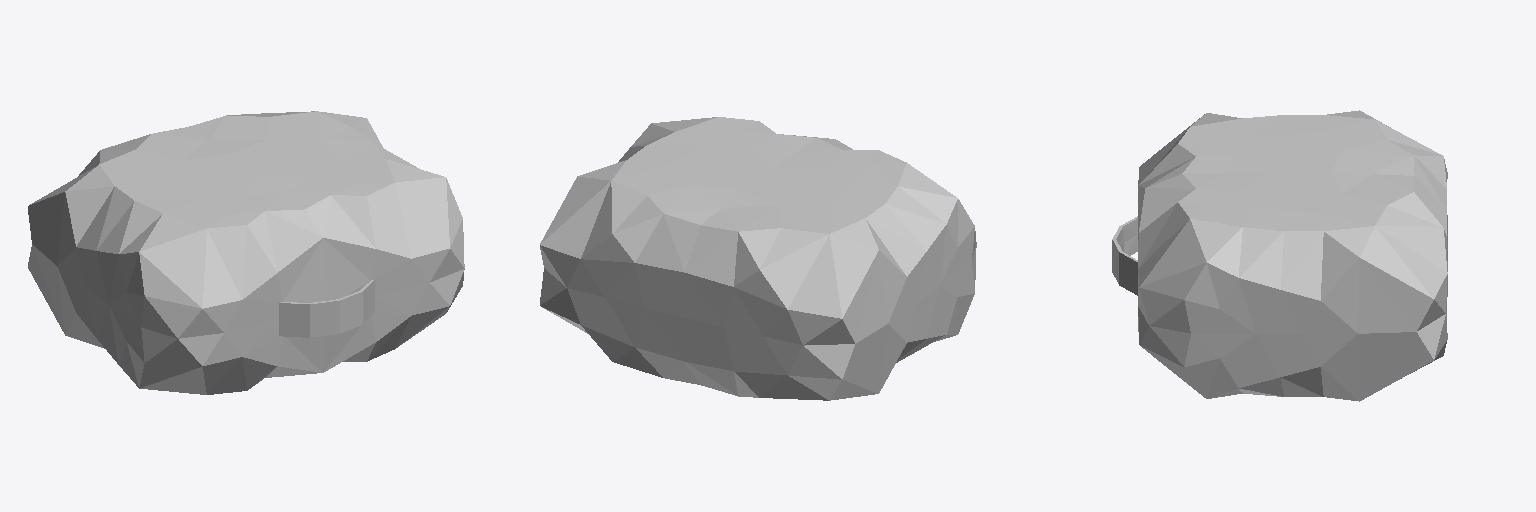
File: top_handle_symmetric.obj
3 renders of one model, left to right at view 1: azimuth 30°, elevation 25°; view 2: azimuth 150°, elevation 25°; view 3: azimuth 270°, elevation 25°, orthographic.
Bounding box in the file's own units: 0.5 × 0.25 × 0.455.